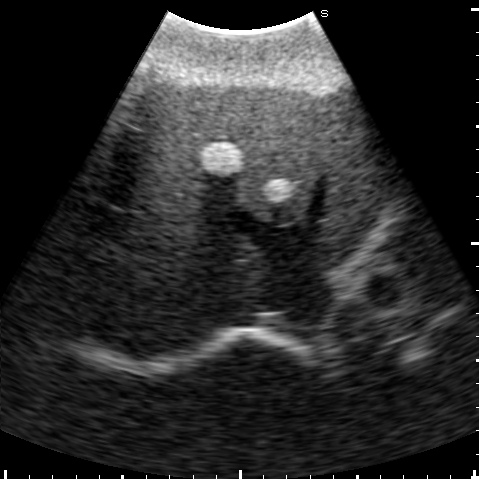S2: (320, 90, 386, 266)
S4: (128, 81, 325, 224)
S7: (62, 258, 209, 358)
S8: (97, 159, 265, 289)
Tumor: (197, 141, 244, 176), (263, 179, 294, 204)
